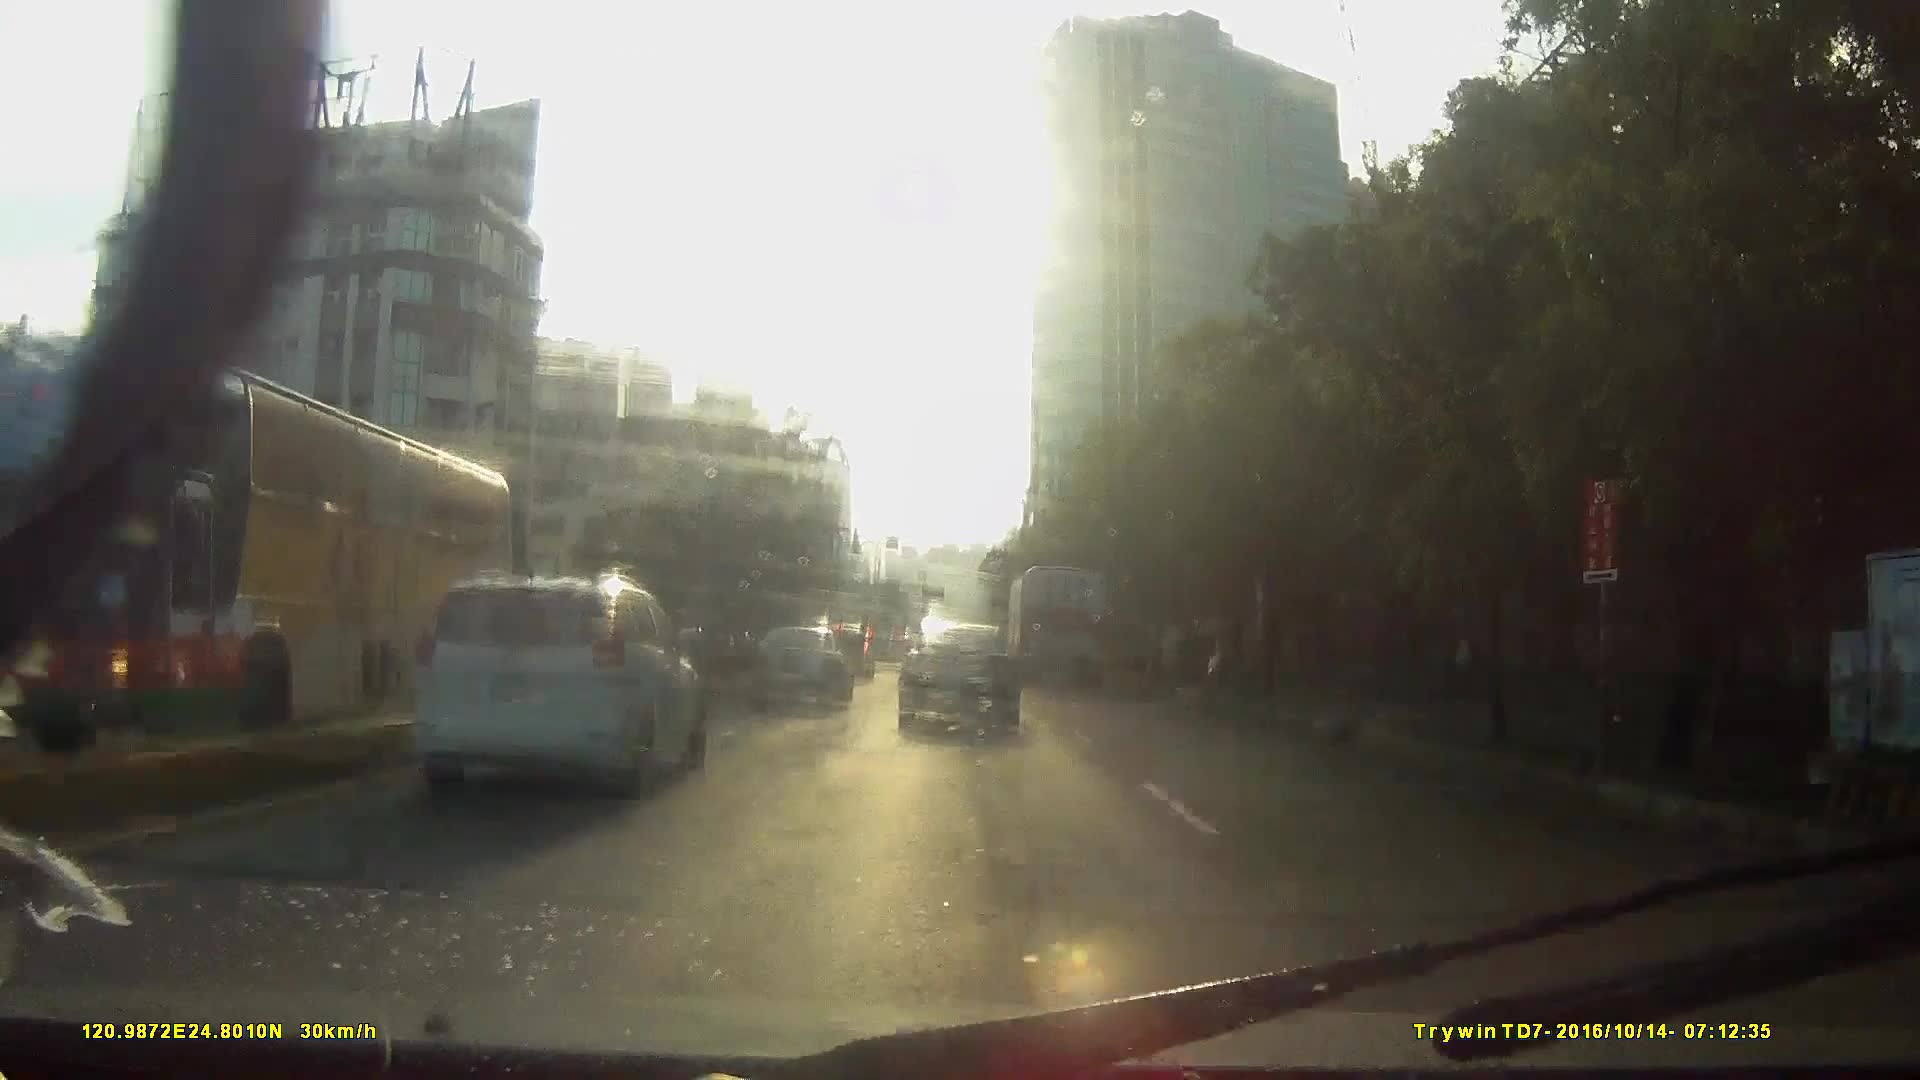vehicle: (1, 324, 529, 760), (251, 556, 684, 868), (405, 568, 704, 803), (893, 618, 1018, 732), (1007, 564, 1112, 691), (745, 624, 853, 709), (866, 638, 915, 687)
